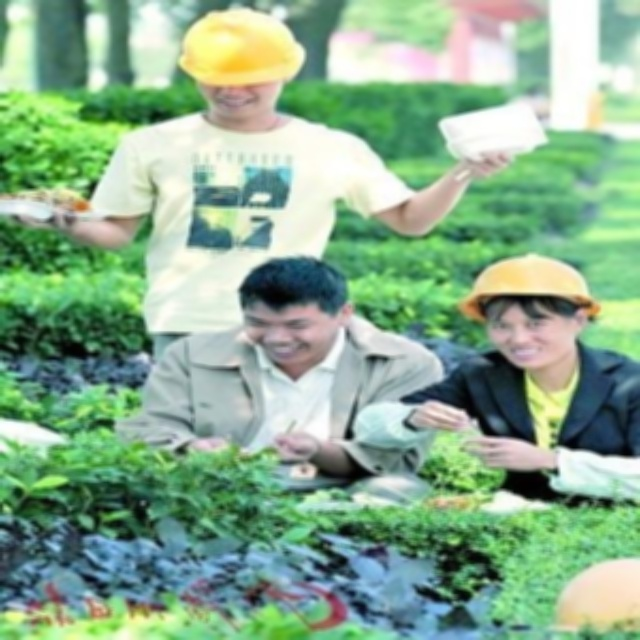Con_Casco: (457, 256, 592, 365)
Sin_Casco_Mascarrilla: (236, 255, 352, 361)
